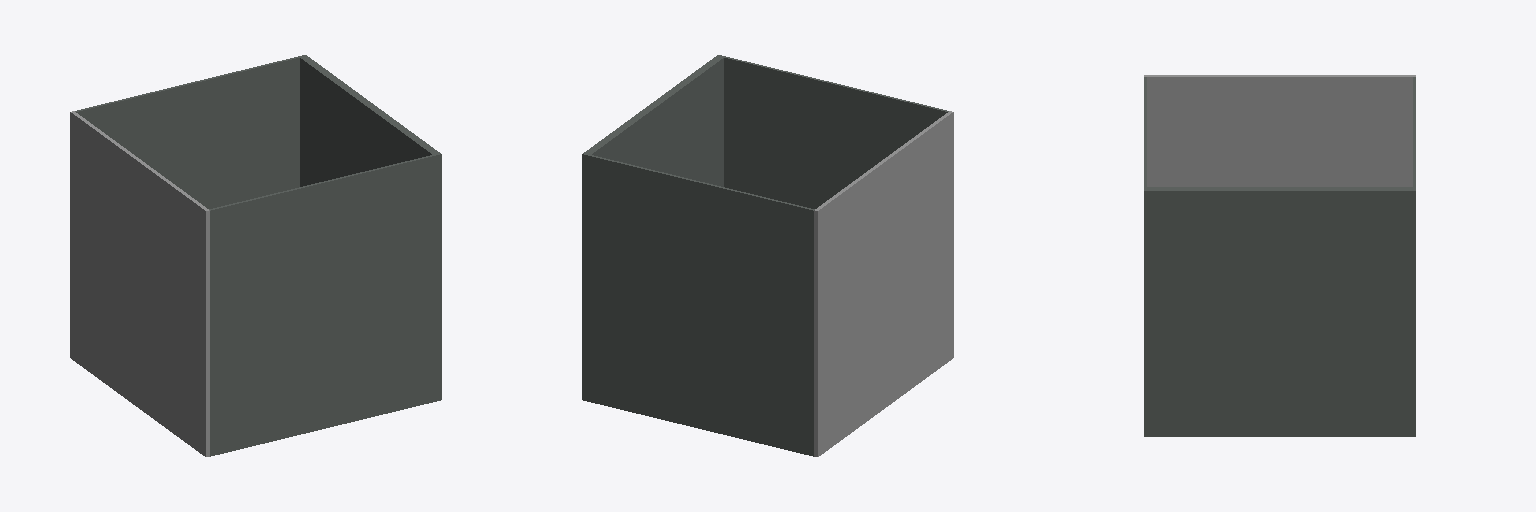
The picture shows the model from 3 angles: view 1: azimuth 30°, elevation 25°; view 2: azimuth 150°, elevation 25°; view 3: azimuth 270°, elevation 25°; orthographic projection.
Visible parts, largest first — view 1: Tank_Cube.003; view 2: Tank_Cube.003; view 3: Tank_Cube.003.
Part boxes in pixels (x1,y1,x2,y2): Tank_Cube.003: (70,55,441,456); Tank_Cube.003: (582,55,953,456); Tank_Cube.003: (1144,75,1415,436).
Size of the model in its own units: 1 by 1 by 1.
2 materials, 1 textured.